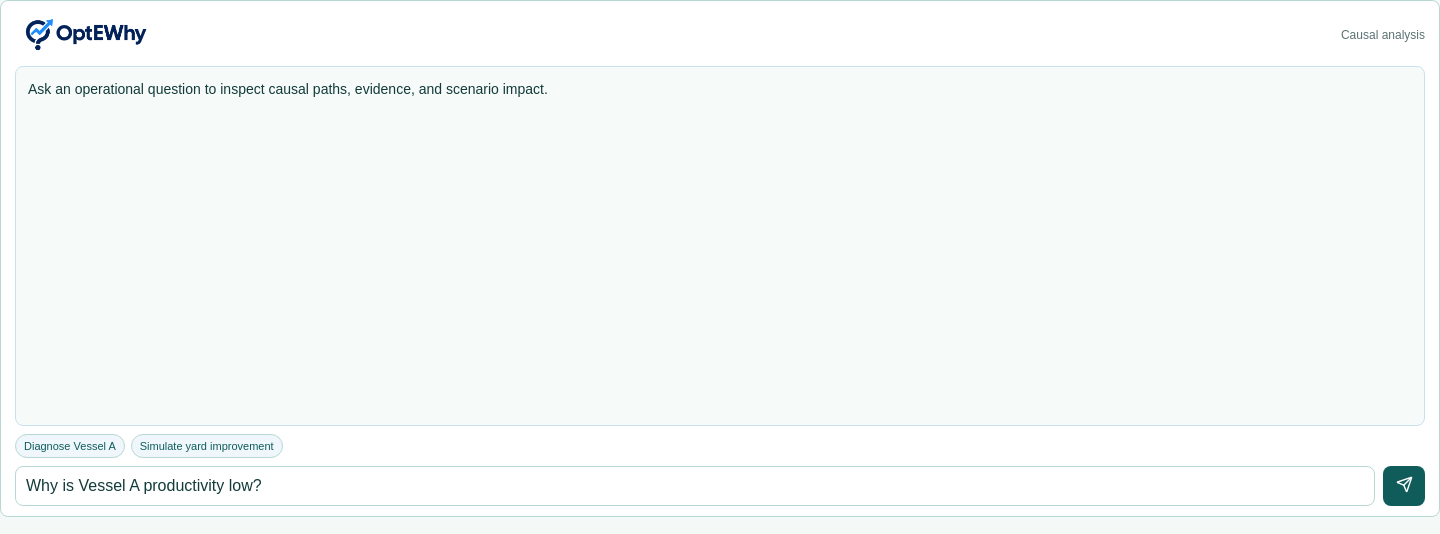
Test case: CopilotPanel › renders GitHub-Flavored Markdown tables in scenario responses
Click the button named "Send query". click: (1404, 486)
box: [1383,466,1425,506]
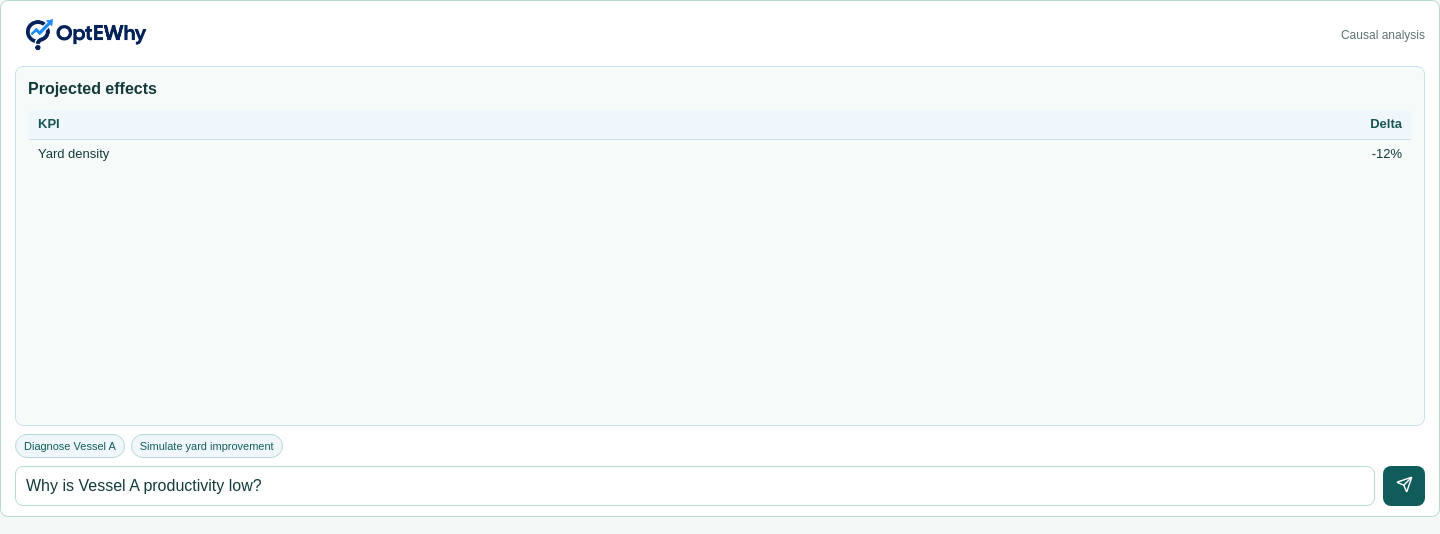
Now the column heading "KPI" is shown, box [28,110,915,139]
Now the cell "Yard density" is shown, box [28,139,915,169]
